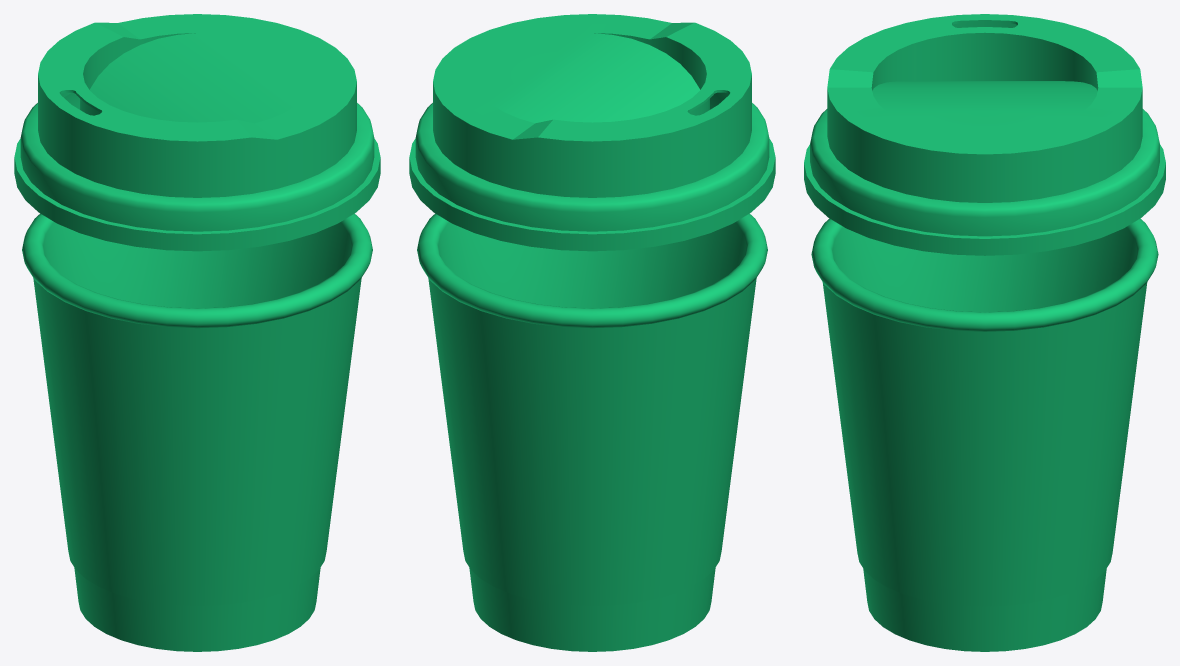
Rendered from C_Cup.fbx.
3 views of the same model, side by side, from view 1: azimuth 30°, elevation 25°; view 2: azimuth 150°, elevation 25°; view 3: azimuth 270°, elevation 25° (orthographic).
Visible parts, largest first — view 1: C_Cup_1; view 2: C_Cup_1; view 3: C_Cup_1.
Boxes of the visible parts, x1=… form: C_Cup_1: x1=14, y1=14, x2=380, y2=651; C_Cup_1: x1=409, y1=14, x2=775, y2=651; C_Cup_1: x1=804, y1=14, x2=1165, y2=651.
Bounding box in the file's own units: 10.12 × 16.09 × 10.12.
